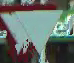Give way: (3, 4, 63, 61)
